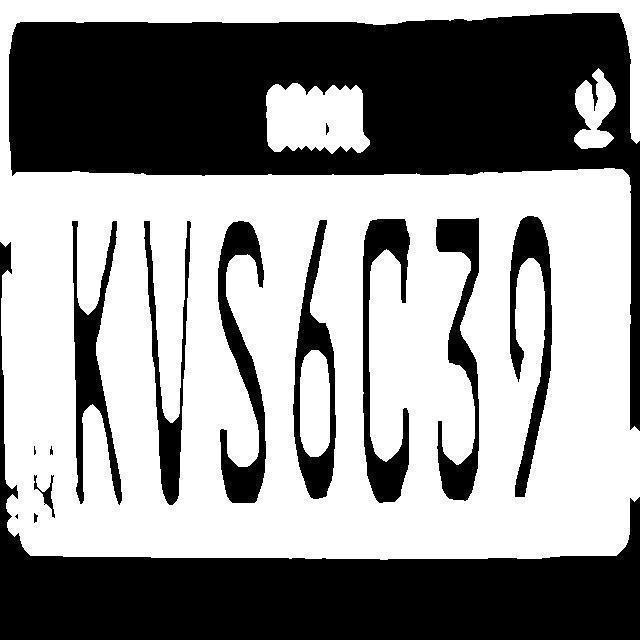3: (420, 198, 490, 512)
6: (278, 200, 352, 510)
9: (500, 209, 560, 509)
c: (355, 213, 414, 510)
k: (64, 208, 130, 506)
s: (212, 216, 270, 510)
v: (137, 215, 196, 510)
